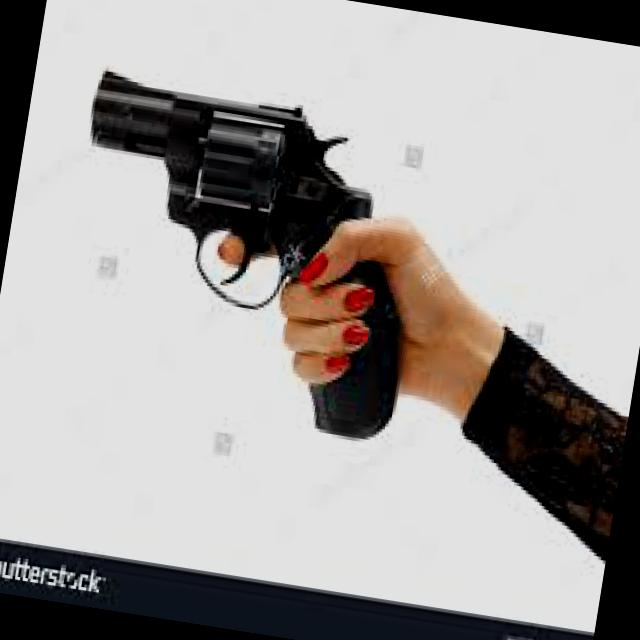handgun: (40, 59, 445, 441)
